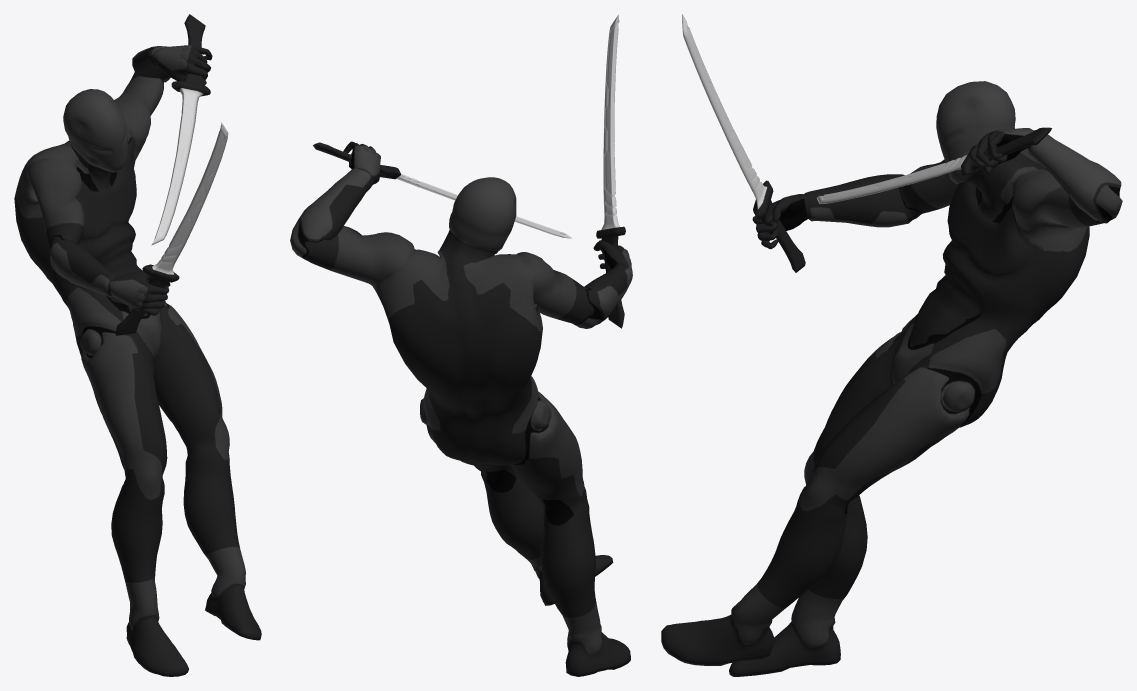
3 views of the same model, side by side, from view 1: azimuth 30°, elevation 25°; view 2: azimuth 150°, elevation 25°; view 3: azimuth 270°, elevation 25° (orthographic). The views are drawn at different scales.
Visible parts, largest first — view 1: Cyborg_Ninja_Killer, Sword_l, Sword_l001; view 2: Cyborg_Ninja_Killer, Sword_l001, Sword_l; view 3: Cyborg_Ninja_Killer, Sword_l001, Sword_l.
Part boxes in pixels (left/top/right/bottom): Cyborg_Ninja_Killer: left=14, top=45, right=261, bottom=676; Sword_l: left=151, top=14, right=210, bottom=245; Sword_l001: left=115, top=122, right=228, bottom=335; Cyborg_Ninja_Killer: left=290, top=141, right=632, bottom=676; Sword_l001: left=596, top=14, right=625, bottom=328; Sword_l: left=313, top=142, right=572, bottom=238; Cyborg_Ninja_Killer: left=661, top=81, right=1122, bottom=676; Sword_l001: left=682, top=14, right=805, bottom=272; Sword_l: left=817, top=127, right=1051, bottom=203.
Size of the model in its own units: 75.58 by 192 by 120.
Materials: 2 (2 with a texture image).
